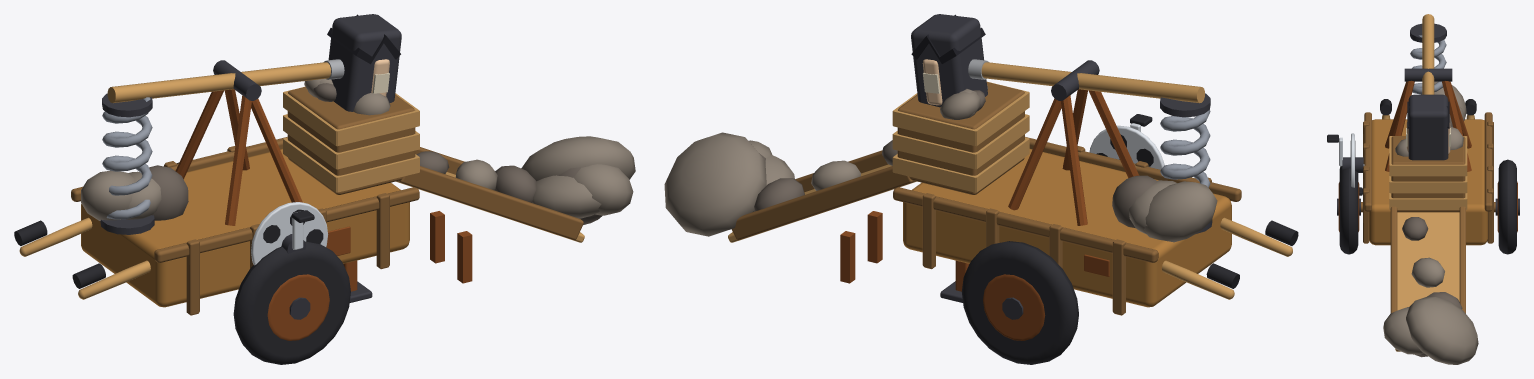
Rendered from vehicle_rock_fragmenter_t1.glb.
3 renders of one model, left to right at view 1: azimuth 30°, elevation 25°; view 2: azimuth 150°, elevation 25°; view 3: azimuth 270°, elevation 25°, orthographic. The views are drawn at different scales.
Parts seen in each view (by area): view 1: Tray, CartWheel.Tyre, Hammer.Head, Crate.Slat, Conveyor.Rail, Crate, Hammer.Handle, Conveyor.Heap.Rock.002, Crate.Slat.001, CartWheel.Dish, Spring, Tray.Rail (+26 smaller); view 2: Tray, CartWheel.Tyre.001, Conveyor.Heap.Rock.002, Hammer.Head, Crate.Slat.002, Crate, Conveyor.Rail.001, Hammer.Handle, Tray.Rocks.Rock.002, Tray.Rail.001, Tray.Stake.001, Crate.Slat.001 (+23 smaller); view 3: Tray, Conveyor.Plank, Conveyor.Heap.Rock.002, Crate.Slat.003, Hammer.Head, Crate, CartWheel.Tyre.001, CartWheel.Tyre, Conveyor.Heap.Rock.004, Hammer.Handle, Conveyor.Rail, Tray.Rail.001 (+23 smaller).
Part boxes in pixels (bbox=[...]): Tray: bbox=[81, 148, 409, 307]; CartWheel.Tyre: bbox=[233, 241, 350, 364]; Hammer.Head: bbox=[328, 14, 401, 111]; Crate.Slat: bbox=[335, 110, 419, 192]; Conveyor.Rail: bbox=[399, 166, 583, 239]; Crate: bbox=[287, 87, 415, 194]; Hammer.Handle: bbox=[107, 62, 330, 103]; Conveyor.Heap.Rock.002: bbox=[521, 136, 635, 180]; Crate.Slat.001: bbox=[283, 92, 338, 192]; CartWheel.Dish: bbox=[267, 274, 329, 340]; Spring: bbox=[102, 97, 152, 219]; Tray.Rail: bbox=[154, 187, 419, 262]; Tray: bbox=[903, 149, 1231, 307]; CartWheel.Tyre.001: bbox=[961, 241, 1078, 364]; Conveyor.Heap.Rock.002: bbox=[664, 132, 766, 236]; Hammer.Head: bbox=[911, 14, 987, 107]; Crate.Slat.002: bbox=[893, 110, 976, 192]; Crate: bbox=[897, 82, 1024, 194]; Conveyor.Rail.001: bbox=[731, 166, 913, 239]; Hammer.Handle: bbox=[981, 62, 1204, 103]; Tray.Rocks.Rock.002: bbox=[1144, 181, 1217, 242]; Tray.Rail.001: bbox=[893, 187, 1158, 262]; Tray.Stake.001: bbox=[922, 193, 1125, 315]; Crate.Slat.001: bbox=[974, 92, 1029, 192]; Tray: bbox=[1369, 119, 1487, 245]; Conveyor.Plank: bbox=[1395, 212, 1459, 351]; Conveyor.Heap.Rock.002: bbox=[1406, 296, 1478, 364]; Crate.Slat.003: bbox=[1390, 164, 1466, 209]; Hammer.Head: bbox=[1408, 94, 1448, 160]; Crate: bbox=[1391, 136, 1465, 212]; CartWheel.Tyre.001: bbox=[1498, 159, 1516, 254]; CartWheel.Tyre: bbox=[1339, 166, 1358, 254]; Conveyor.Heap.Rock.004: bbox=[1383, 307, 1423, 354]; Hammer.Handle: bbox=[1422, 14, 1434, 94]; Conveyor.Rail: bbox=[1390, 206, 1397, 312]; Tray.Rail.001: bbox=[1484, 112, 1492, 211].
Size of the model in its own units: 3.72 by 1.62 by 1.46.
